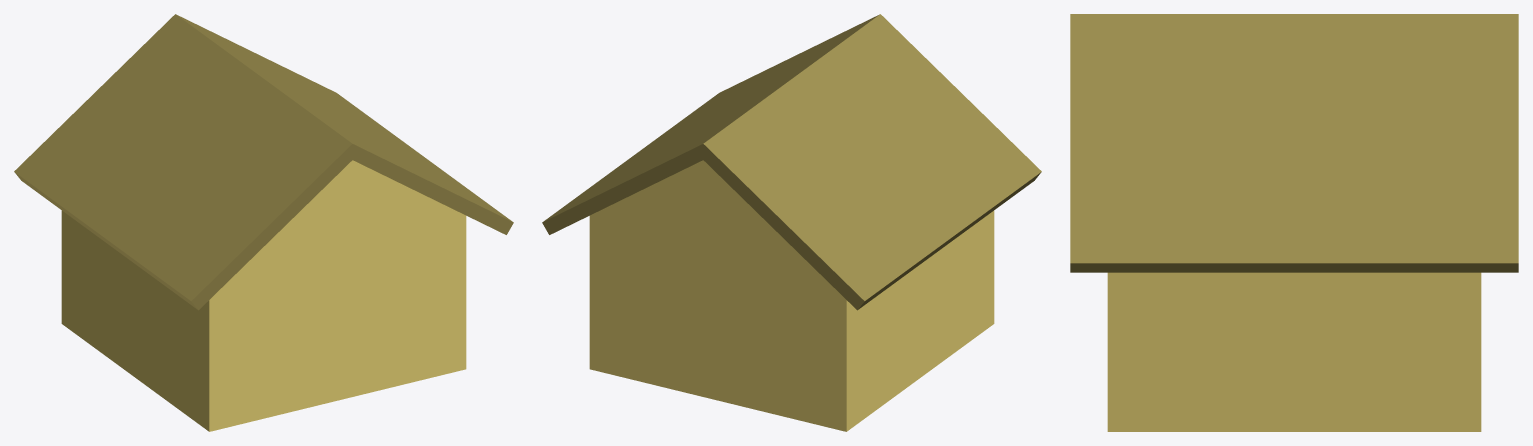
The model's file is result.glb.
3 renders of one model, left to right at view 1: azimuth 30°, elevation 25°; view 2: azimuth 150°, elevation 25°; view 3: azimuth 270°, elevation 25°, orthographic. The views are drawn at different scales.
Visible parts, largest first — view 1: f9e8fe87-1531-4d3a-81c6-6e7a2ddcd5a1__undefined, 79d4b5cd-28a8-465f-a4ee-0d6aed451319__undefined (×2); view 2: f9e8fe87-1531-4d3a-81c6-6e7a2ddcd5a1__undefined, 79d4b5cd-28a8-465f-a4ee-0d6aed451319__undefined (×2); view 3: 79d4b5cd-28a8-465f-a4ee-0d6aed451319__undefined, f9e8fe87-1531-4d3a-81c6-6e7a2ddcd5a1__undefined.
Boxes of the visible parts, x1,y1,x2,y2 form: f9e8fe87-1531-4d3a-81c6-6e7a2ddcd5a1__undefined: (61, 160, 466, 431); 79d4b5cd-28a8-465f-a4ee-0d6aed451319__undefined (×2): (14, 14, 513, 310); f9e8fe87-1531-4d3a-81c6-6e7a2ddcd5a1__undefined: (589, 160, 994, 431); 79d4b5cd-28a8-465f-a4ee-0d6aed451319__undefined (×2): (542, 14, 1041, 310); 79d4b5cd-28a8-465f-a4ee-0d6aed451319__undefined: (1070, 14, 1518, 272); f9e8fe87-1531-4d3a-81c6-6e7a2ddcd5a1__undefined: (1107, 272, 1481, 431).
Size of the model in its own units: 631 by 500 by 600.
